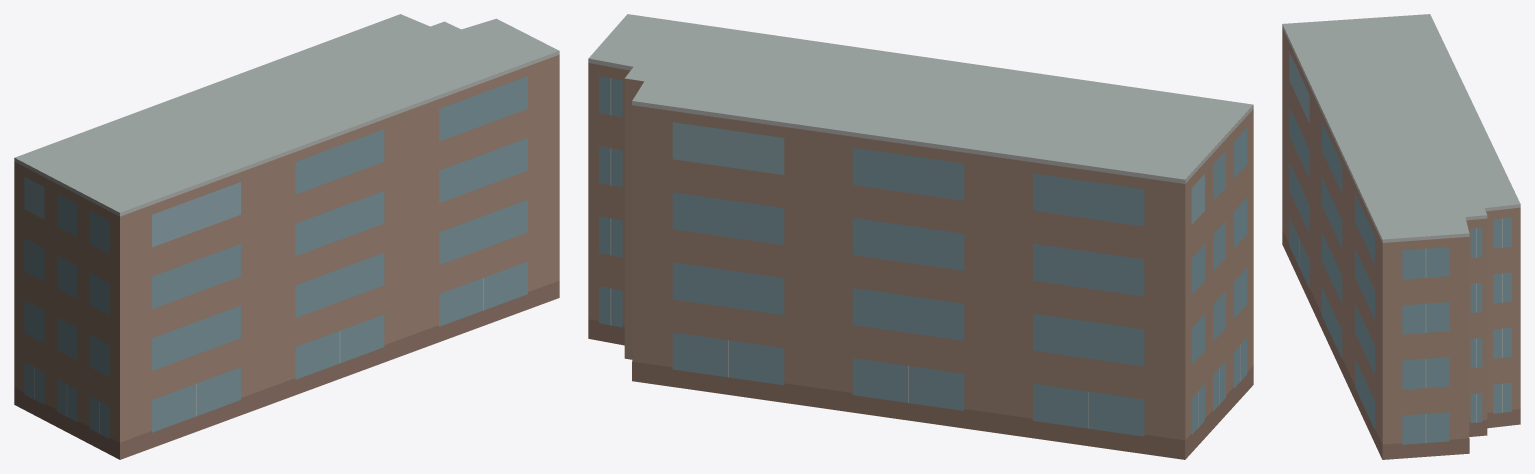
File: survey-upis-32613656.glb
The picture shows the model from 3 angles, left to right: view 1: azimuth 30°, elevation 25°; view 2: azimuth 150°, elevation 25°; view 3: azimuth 270°, elevation 25°; orthographic projection. The views are drawn at different scales.
Visible parts, largest first — view 1: survey-upis-32613656.tmp; view 2: survey-upis-32613656.tmp; view 3: survey-upis-32613656.tmp.
Part boxes in pixels (bbox=[...]): survey-upis-32613656.tmp: bbox=[14, 14, 559, 459]; survey-upis-32613656.tmp: bbox=[588, 14, 1253, 459]; survey-upis-32613656.tmp: bbox=[1282, 14, 1520, 459].
Size of the model in its own units: 34.73 by 15.81 by 15.52.
